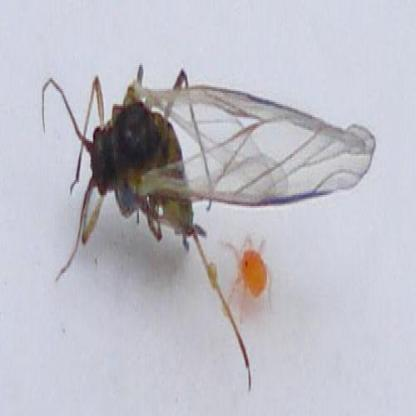aphid: (43, 58, 378, 387), (220, 230, 275, 319)
